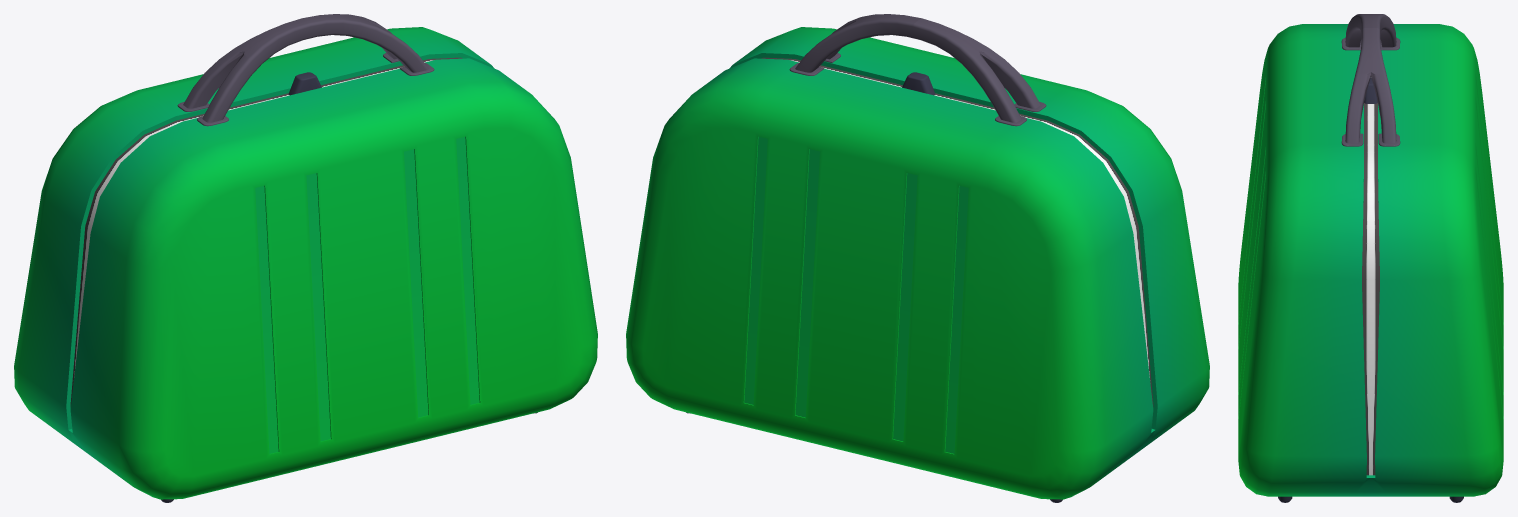
File: Baggage_3_Green.fbx
The picture shows the model from 3 angles, left to right: view 1: azimuth 30°, elevation 25°; view 2: azimuth 150°, elevation 25°; view 3: azimuth 270°, elevation 25°; orthographic projection. The views are drawn at different scales.
Visible parts, largest first — view 1: Baggage_3_Green; view 2: Baggage_3_Green; view 3: Baggage_3_Green.
Boxes of the visible parts, box(x1,y1,x2,y2) form: Baggage_3_Green: box(14, 14, 597, 502); Baggage_3_Green: box(626, 14, 1209, 502); Baggage_3_Green: box(1238, 14, 1503, 502).
Bounding box in the file's own units: 60.85 × 49.27 × 30.64.
